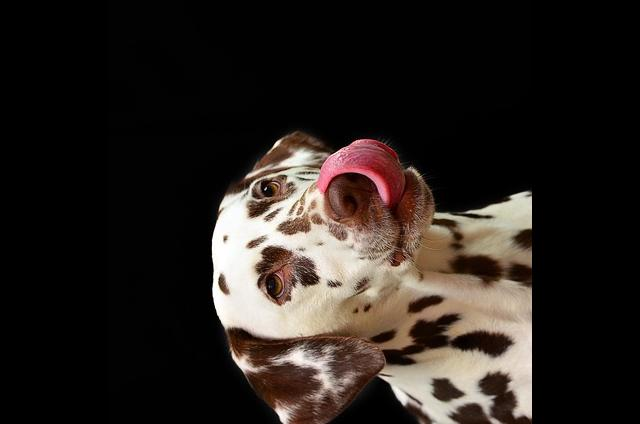Non_Gorille: (143, 11, 532, 424)
